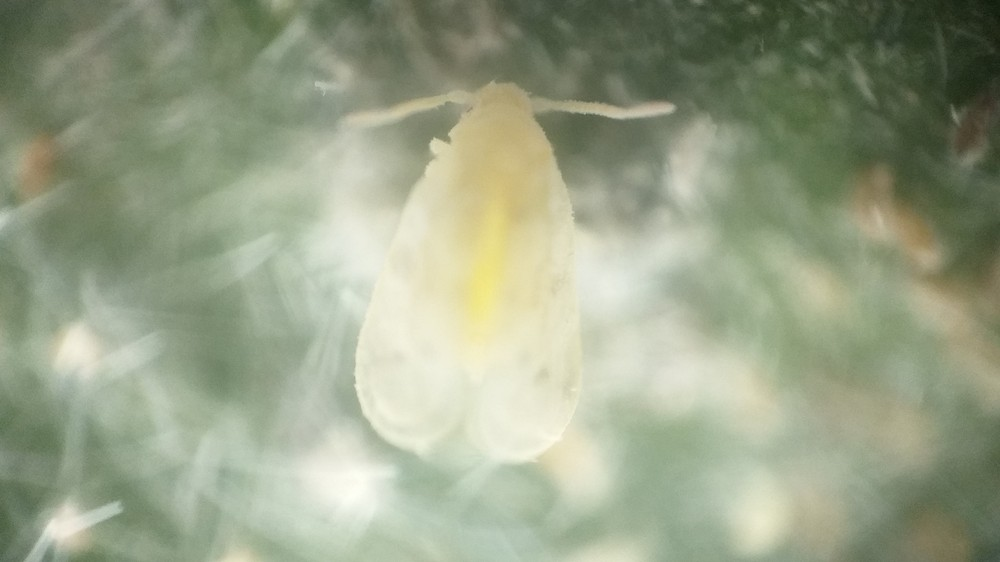Mosca Blanca: (300, 66, 687, 484)
